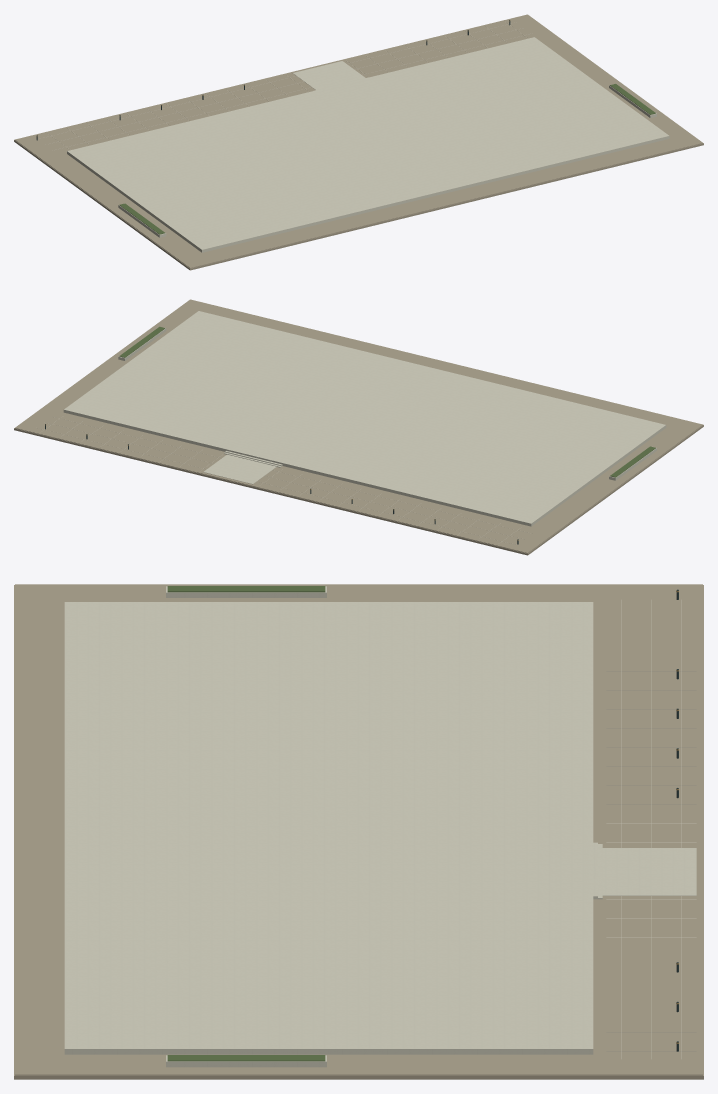
File: KOL_T1_NEW_MARKET__00_FoundationGrounds.fbx
3 views of the same model, one above another, from view 1: azimuth 30°, elevation 25°; view 2: azimuth 150°, elevation 25°; view 3: azimuth 270°, elevation 25° (orthographic). The views are drawn at different scales.
Parts seen in each view (by area): view 1: KOL_T1_NEW_MARKET__00_FoundationGrounds__KOL_T1_B4_Stone_00, KOL_T1_NEW_MARKET__00_FoundationGrounds__KOL_T1_B4_Paving_00, KOL_T1_NEW_MARKET__00_FoundationGrounds__KOL_T1_B4_Lawn_00; view 2: KOL_T1_NEW_MARKET__00_FoundationGrounds__KOL_T1_B4_Stone_00, KOL_T1_NEW_MARKET__00_FoundationGrounds__KOL_T1_B4_Paving_00, KOL_T1_NEW_MARKET__00_FoundationGrounds__KOL_T1_B4_Lawn_00; view 3: KOL_T1_NEW_MARKET__00_FoundationGrounds__KOL_T1_B4_Stone_00, KOL_T1_NEW_MARKET__00_FoundationGrounds__KOL_T1_B4_Paving_00, KOL_T1_NEW_MARKET__00_FoundationGrounds__KOL_T1_B4_Lawn_00.
Boxes of the visible parts, x1,y1,x2,y2 form: KOL_T1_NEW_MARKET__00_FoundationGrounds__KOL_T1_B4_Stone_00: [39, 22, 669, 252]; KOL_T1_NEW_MARKET__00_FoundationGrounds__KOL_T1_B4_Paving_00: [14, 14, 703, 270]; KOL_T1_NEW_MARKET__00_FoundationGrounds__KOL_T1_B4_Lawn_00: [119, 83, 655, 234]; KOL_T1_NEW_MARKET__00_FoundationGrounds__KOL_T1_B4_Stone_00: [39, 311, 666, 544]; KOL_T1_NEW_MARKET__00_FoundationGrounds__KOL_T1_B4_Paving_00: [14, 299, 703, 555]; KOL_T1_NEW_MARKET__00_FoundationGrounds__KOL_T1_B4_Lawn_00: [119, 326, 655, 477]; KOL_T1_NEW_MARKET__00_FoundationGrounds__KOL_T1_B4_Stone_00: [64, 586, 696, 1067]; KOL_T1_NEW_MARKET__00_FoundationGrounds__KOL_T1_B4_Paving_00: [14, 584, 703, 1079]; KOL_T1_NEW_MARKET__00_FoundationGrounds__KOL_T1_B4_Lawn_00: [167, 586, 325, 1061].
Bounding box in the file's own units: 310 × 4.1 × 184.
5 materials, 1 textured.
